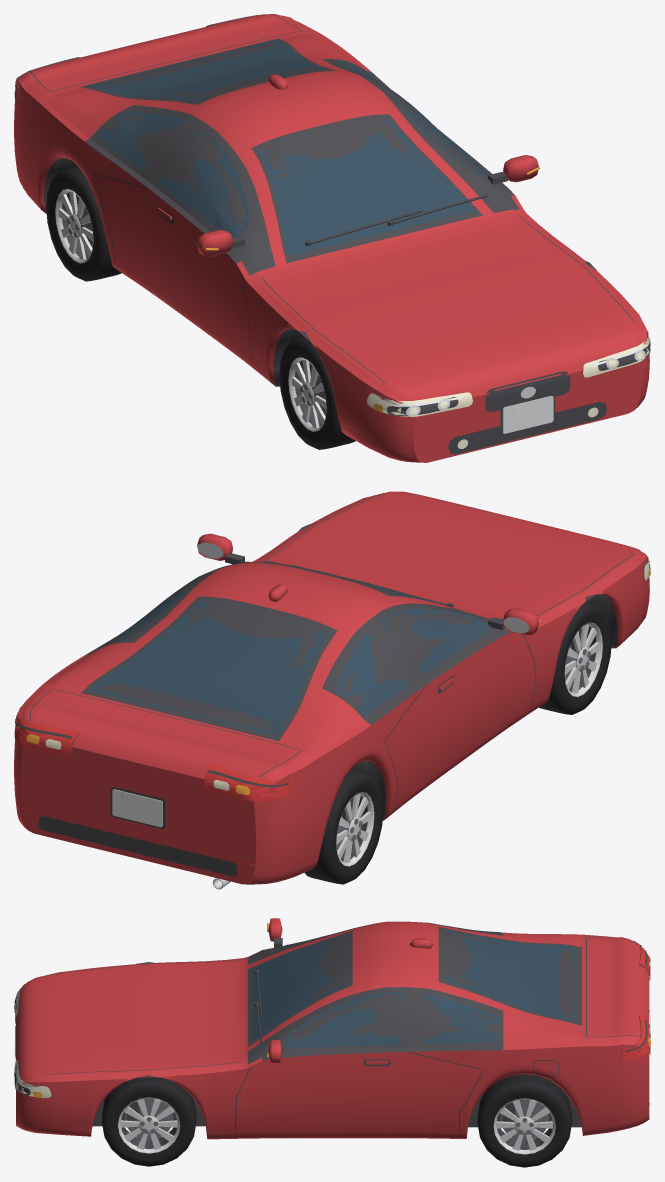
The model's file is 358_close.fbx.
3 renders of one model, top to bottom at view 1: azimuth 30°, elevation 25°; view 2: azimuth 150°, elevation 25°; view 3: azimuth 270°, elevation 25°, orthographic. The views are drawn at different scales.
Parts seen in each view (by area): view 1: 358_close; view 2: 358_close; view 3: 358_close.
Part boxes in pixels (x1,y1,x2,y2): 358_close: (14, 14, 650, 462); 358_close: (14, 491, 650, 889); 358_close: (14, 918, 650, 1167).
Size of the model in its own units: 2.21 by 1.34 by 4.44.
